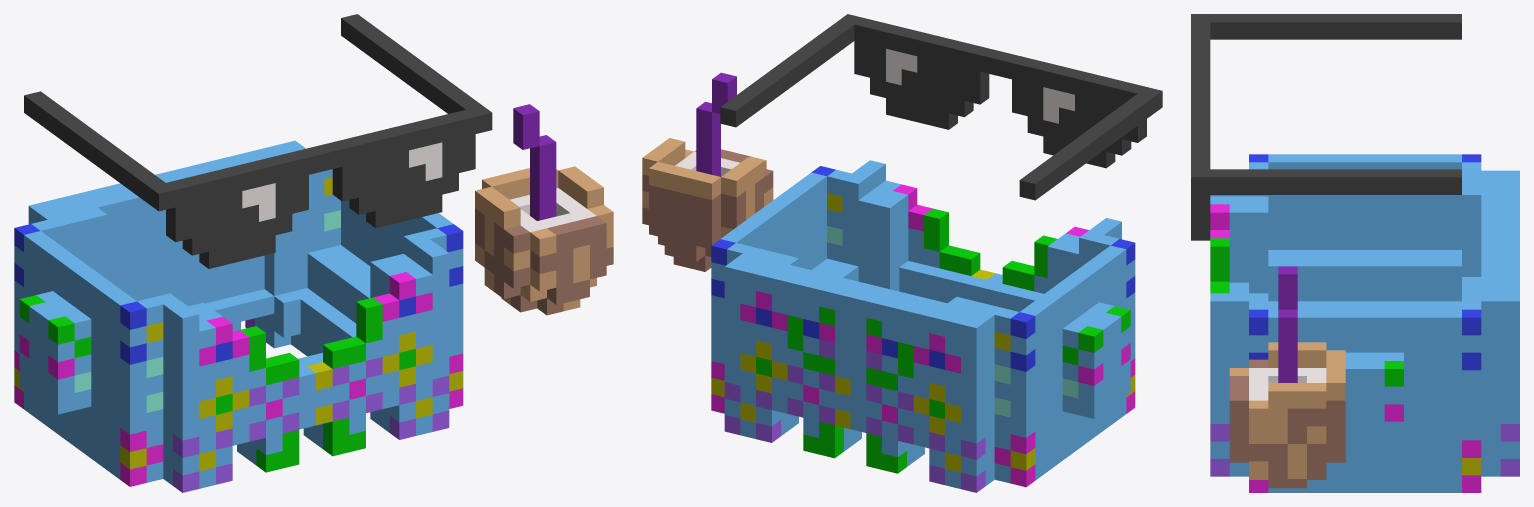
File: 42- blue vacationer.fbx
3 views of the same model, side by side, from view 1: azimuth 30°, elevation 25°; view 2: azimuth 150°, elevation 25°; view 3: azimuth 270°, elevation 25° (orthographic). The views are drawn at different scales.
Visible parts, largest first — view 1: 115, 117, 116, 115.1, Saleevs_R, 116.2, 117.1, 116.1, Saleevs_R_1; view 2: 115, 117, 115.1, 116, Saleevs_R, 116.2, 117.1, Saleevs_R_1; view 3: 115, 117, 116, Saleevs_L, 116.2, 115.1, 116.1.
Part boxes in pixels (x1=…): 115: x1=14, y1=140, x2=463, y2=492; 117: x1=24, y1=14, x2=492, y2=268; 116: x1=475, y1=166, x2=613, y2=315; 115.1: x1=14, y1=177, x2=463, y2=486; Saleevs_R: x1=19, y1=291, x2=91, y2=414; 116.2: x1=513, y1=104, x2=556, y2=220; 117.1: x1=242, y1=142, x2=442, y2=221; 116.1: x1=510, y1=188, x2=596, y2=232; Saleevs_R_1: x1=19, y1=334, x2=91, y2=392; 115: x1=711, y1=160, x2=1135, y2=492; 117: x1=720, y1=14, x2=1162, y2=200; 115.1: x1=711, y1=184, x2=1135, y2=487; 116: x1=642, y1=138, x2=773, y2=271; Saleevs_R: x1=1062, y1=302, x2=1130, y2=418; 116.2: x1=696, y1=72, x2=736, y2=176; 117.1: x1=886, y1=48, x2=1074, y2=123; Saleevs_R_1: x1=1062, y1=343, x2=1130, y2=398; 115: x1=1210, y1=154, x2=1519, y2=492; 117: x1=1191, y1=14, x2=1461, y2=240; 116: x1=1229, y1=342, x2=1345, y2=488; Saleevs_L: x1=1345, y1=352, x2=1403, y2=456; 116.2: x1=1278, y1=266, x2=1297, y2=382; 115.1: x1=1210, y1=204, x2=1481, y2=492; 116.1: x1=1249, y1=368, x2=1326, y2=400.
Size of the model in its own units: 310 by 180 by 170.
Materials: 11 (11 with a texture image).
